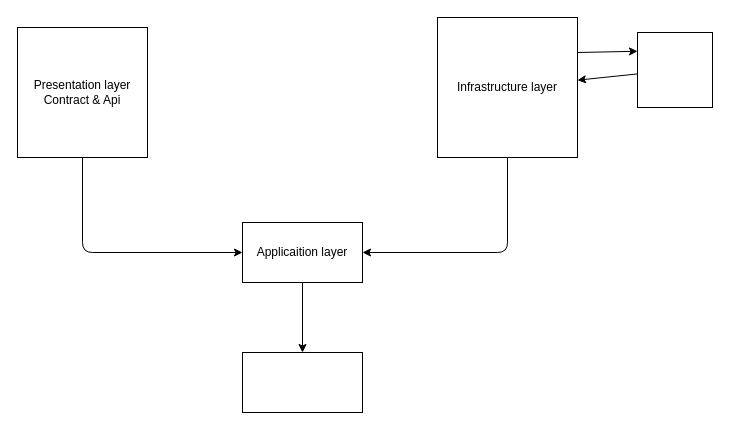
This 730x430 diagram has some shape labels left out. The shapes that lost their labels are listed below. From the top down, each one's box as (x1, y1, x2, y2) in pixels, then its label:
(636, 32, 712, 108): DB
(242, 352, 362, 412): Domain layer
